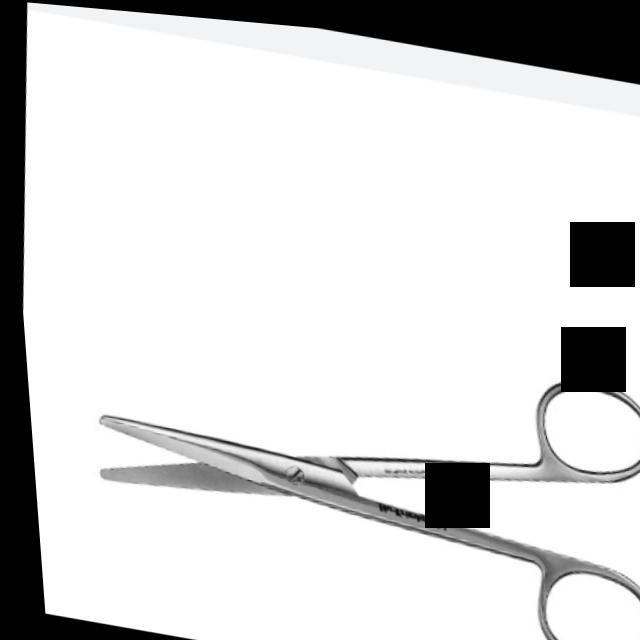Straight Mayo: (65, 286, 640, 640)
